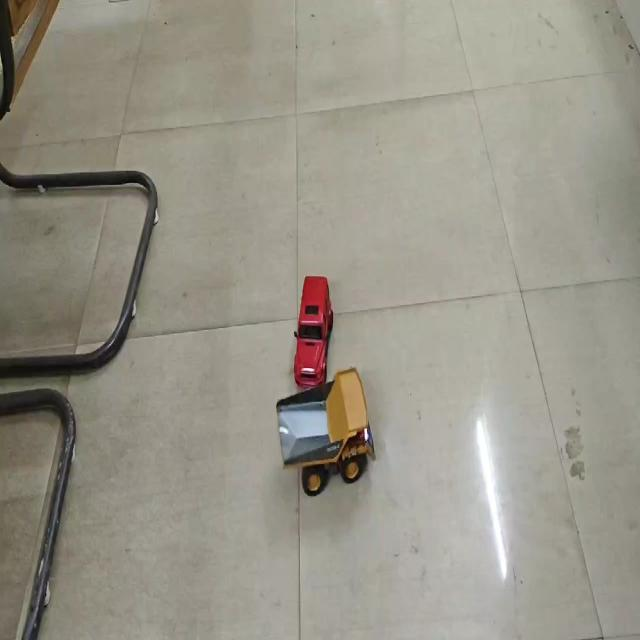dump_truck: (274, 368, 379, 489)
light_vehicle: (290, 272, 332, 381)
